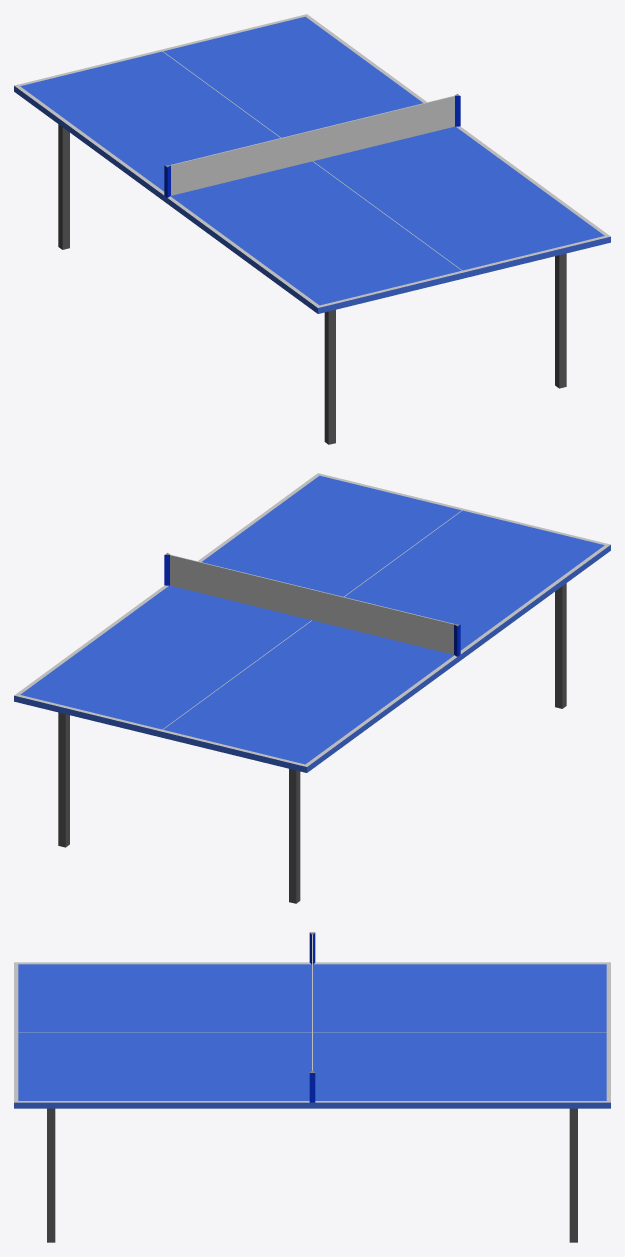
File: TableTennisTable.fbx
The picture shows the model from 3 angles, top to bottom: view 1: azimuth 30°, elevation 25°; view 2: azimuth 150°, elevation 25°; view 3: azimuth 270°, elevation 25°; orthographic projection.
Visible parts, largest first — view 1: 立方体, 立方体.001, 立方体.003, 立方体.002, 立方体.004; view 2: 立方体, 立方体.001, 立方体.005, 立方体.004, 立方体.003; view 3: 立方体, 立方体.005, 立方体.002, 立方体.001.
Boxes of the visible parts, x1,y1,x2,y2 form: 立方体: [14, 14, 610, 313]; 立方体.001: [164, 94, 460, 197]; 立方体.003: [324, 310, 335, 444]; 立方体.002: [555, 253, 566, 388]; 立方体.004: [58, 124, 69, 249]; 立方体: [14, 473, 610, 772]; 立方体.001: [164, 553, 460, 656]; 立方体.005: [58, 712, 69, 847]; 立方体.004: [289, 769, 300, 903]; 立方体.003: [555, 583, 566, 708]; 立方体: [14, 962, 610, 1108]; 立方体.005: [569, 1108, 577, 1242]; 立方体.002: [47, 1108, 55, 1242]; 立方体.001: [309, 932, 315, 1102].
Size of the model in its own units: 305 by 185 by 548.
